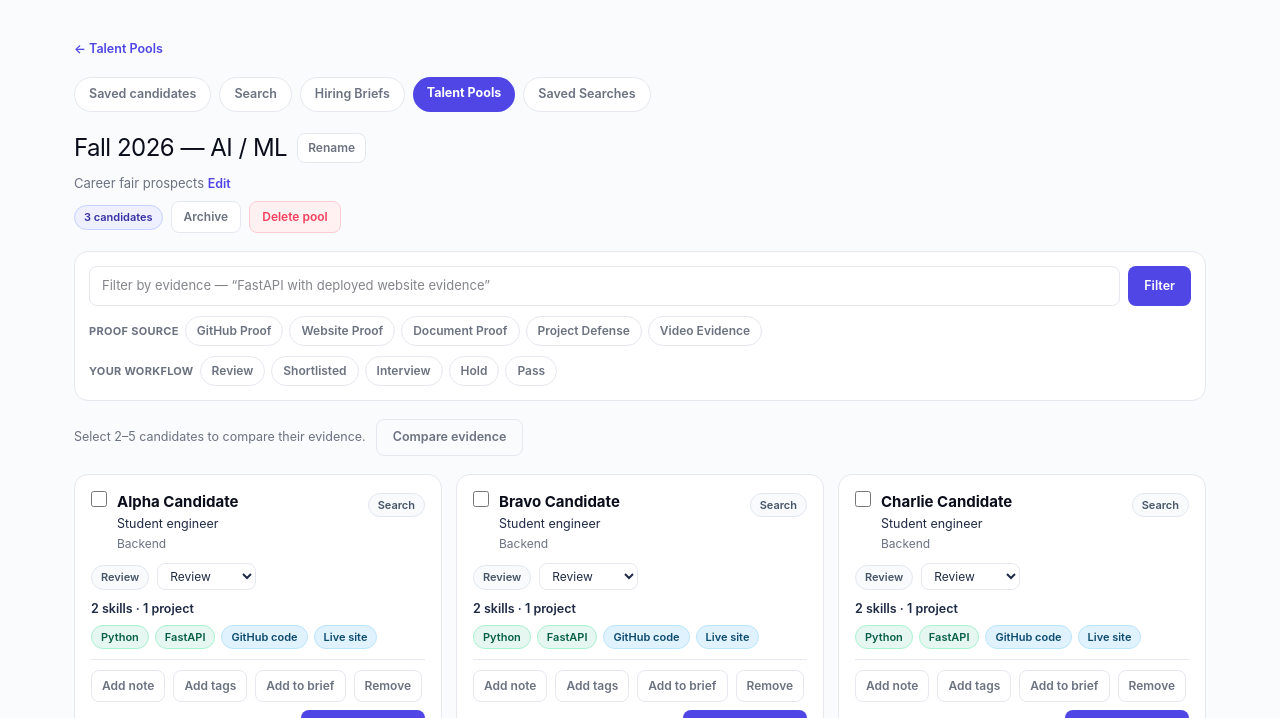
Scenario: Recruiter workflow metadata › changes a workflow status
Check: the heading "Alpha Candidate" is shown, box [117,492,238,510]
Select "Shortlisted" in the 1st dropdown with test id "pool-candidate-status-select" at x=207, y=577, box [157,563,256,590]
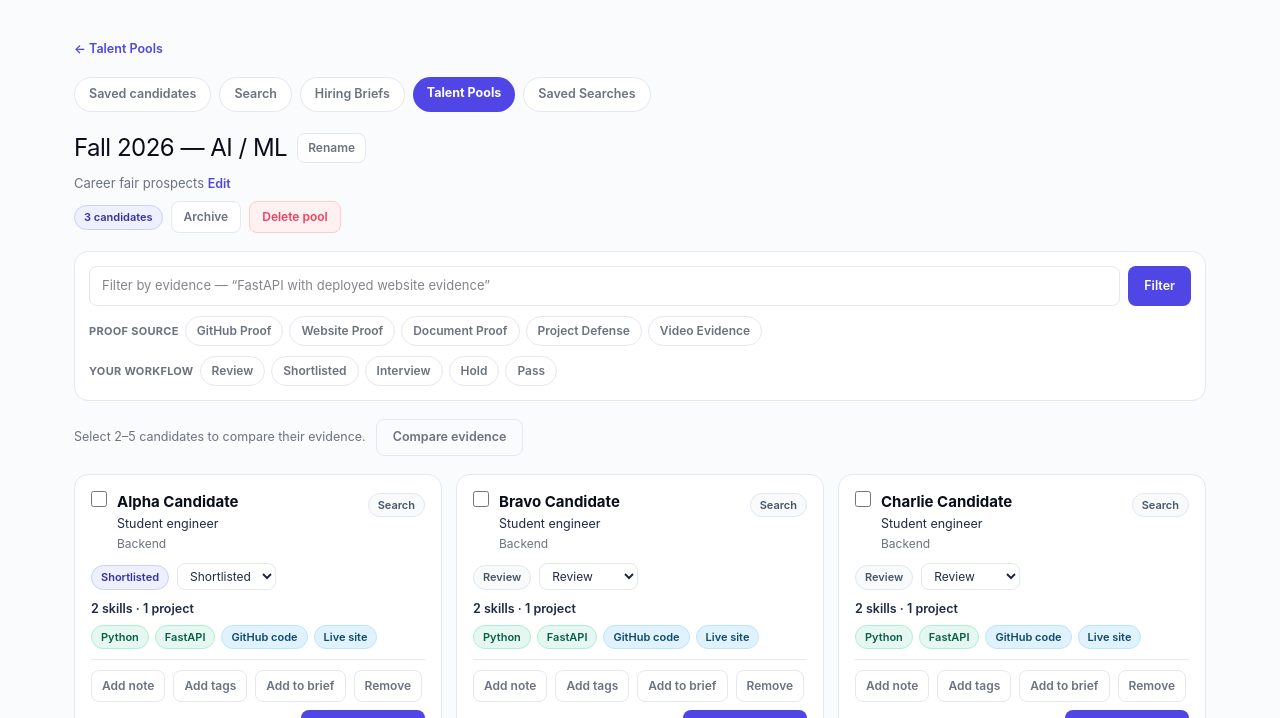
Check: the element with test id "pool-candidate-status" reads "Shortlisted", box [101,570,159,584]
